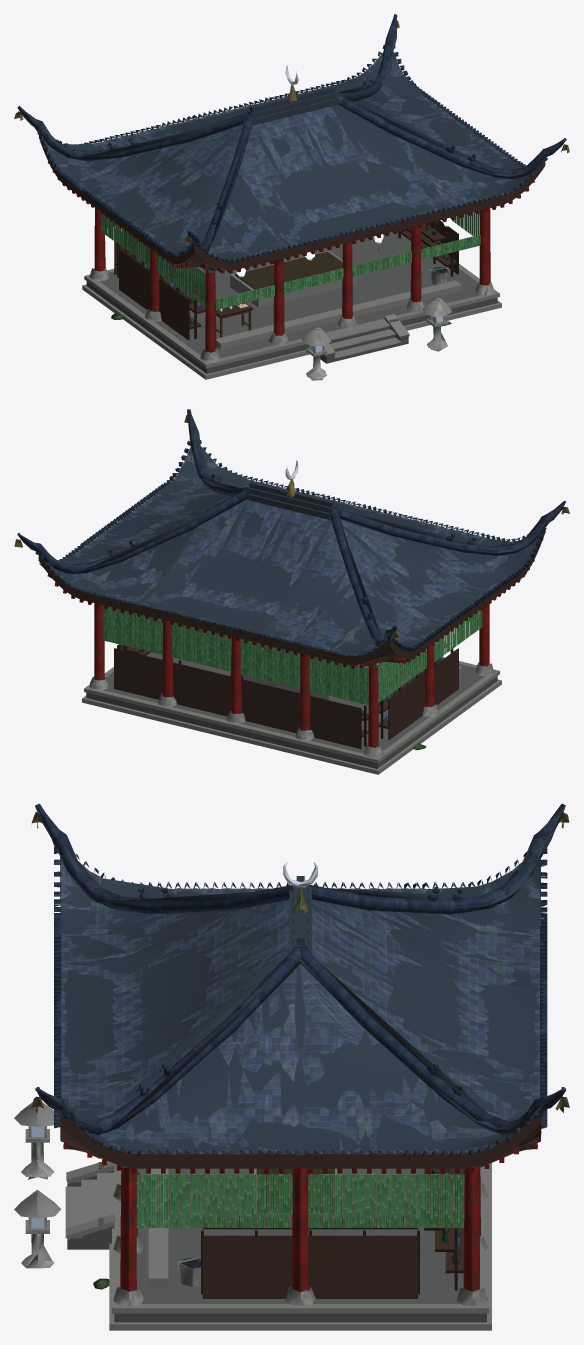
The model's file is prop_gu_nursery.gltf.
The picture shows the model from 3 angles, top to bottom: view 1: azimuth 30°, elevation 25°; view 2: azimuth 150°, elevation 25°; view 3: azimuth 270°, elevation 25°; orthographic projection. The views are drawn at different scales.
Visible parts, largest first — view 1: Far, Near; view 2: Far, Near; view 3: Far, Near.
Part boxes in pixels (box(x1,y1,x2,y2)): Far: box(18, 14, 569, 380); Near: box(14, 14, 569, 378); Far: box(14, 416, 565, 774); Near: box(15, 409, 569, 757); Far: box(14, 804, 565, 1330); Near: box(14, 803, 569, 1305).
Size of the model in its own units: 14.02 by 8.13 by 11.34.
Materials: 27 (17 with a texture image).
